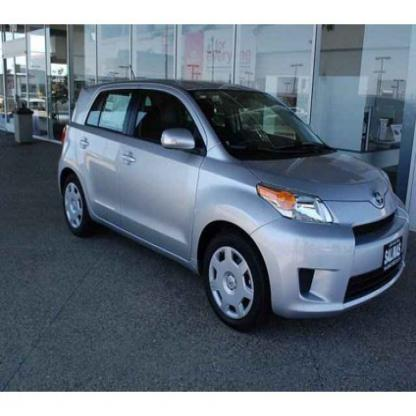Vehicle: (55, 78, 412, 328)
